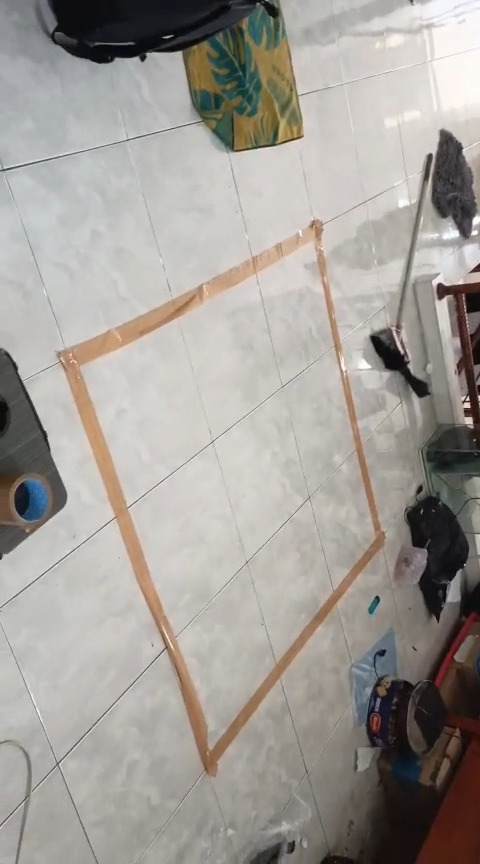floor marking: (58, 220, 383, 775)
